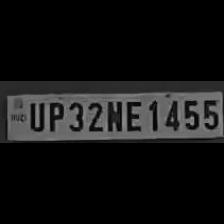1: (144, 98, 160, 132)
2: (84, 98, 104, 132)
3: (64, 98, 84, 132)
4: (160, 97, 180, 130)
5: (200, 96, 220, 130), (180, 97, 198, 129)
E: (122, 97, 144, 133)
N: (104, 98, 124, 132)
P: (44, 99, 64, 134)
U: (25, 100, 45, 132)
